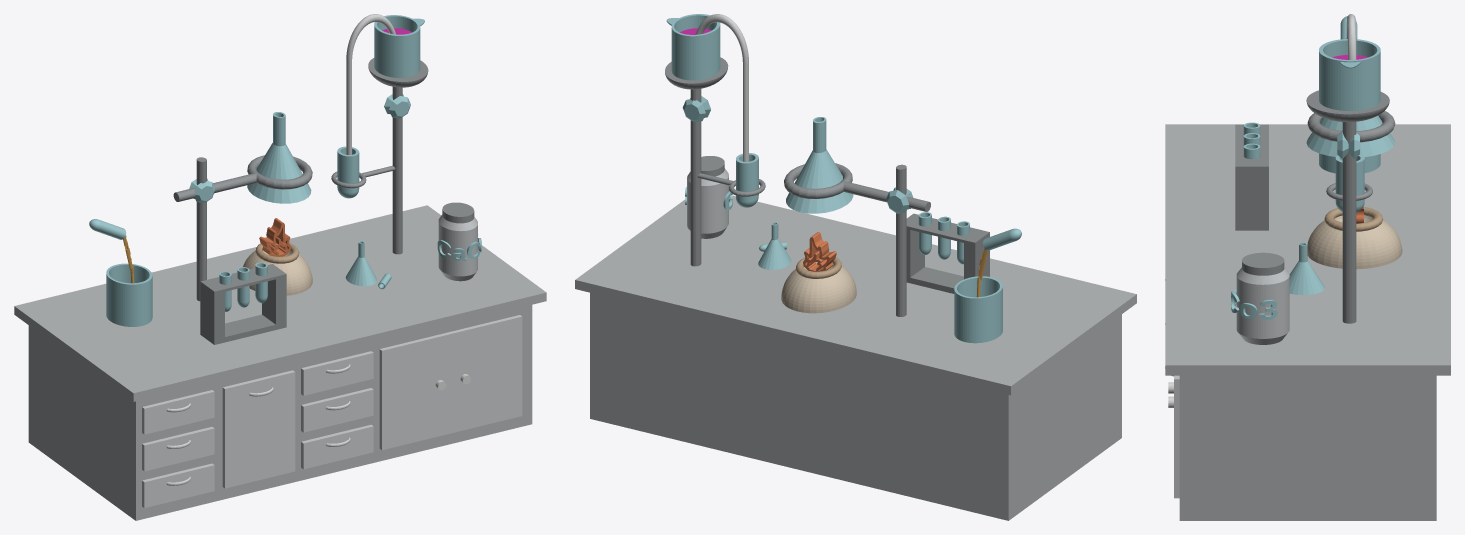
File: Laboratorio2.glb
3 views of the same model, side by side, from view 1: azimuth 30°, elevation 25°; view 2: azimuth 150°, elevation 25°; view 3: azimuth 270°, elevation 25° (orthographic). The views are drawn at different scales.
Visible parts, largest first — view 1: Mesh_Mesh_head_geo.001_lambert2SG.001; view 2: Mesh_Mesh_head_geo.001_lambert2SG.001; view 3: Mesh_Mesh_head_geo.001_lambert2SG.001.
Part boxes in pixels (x1,y1,x2,y2): Mesh_Mesh_head_geo.001_lambert2SG.001: [14, 14, 546, 520]; Mesh_Mesh_head_geo.001_lambert2SG.001: [575, 14, 1136, 520]; Mesh_Mesh_head_geo.001_lambert2SG.001: [1165, 14, 1450, 520].
Size of the model in its own units: 100 by 87.56 by 50.07.
